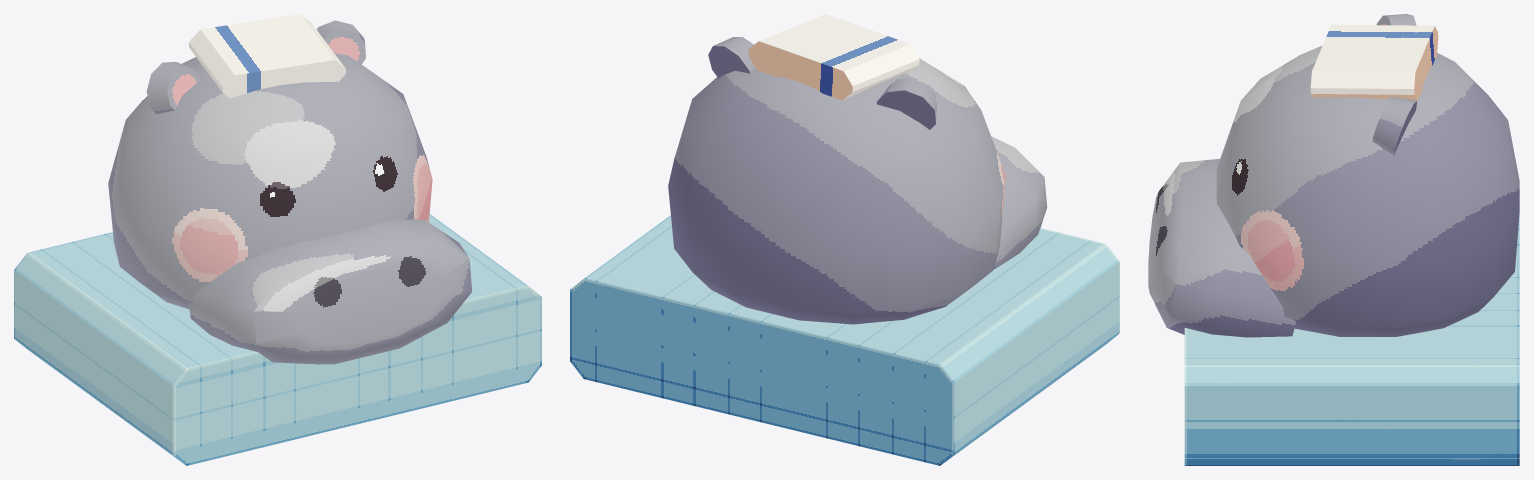
The model's file is hippo.glb.
The picture shows the model from 3 angles, left to right: view 1: azimuth 30°, elevation 25°; view 2: azimuth 150°, elevation 25°; view 3: azimuth 270°, elevation 25°; orthographic projection. The views are drawn at different scales.
Parts seen in each view (by area): view 1: tub, head, snout, towel, earL, earR; view 2: tub, head, towel, snout, earL, earR; view 3: head, tub, snout, towel, earR, earL.
Part boxes in pixels (x1,y1,x2,y2): tub: [14, 214, 541, 465]; head: [108, 53, 432, 309]; snout: [188, 219, 472, 364]; towel: [189, 14, 345, 98]; earL: [146, 61, 200, 114]; earR: [317, 20, 365, 64]; tub: [570, 215, 1119, 465]; head: [668, 58, 1005, 324]; towel: [748, 14, 919, 100]; snout: [991, 136, 1047, 268]; earL: [876, 78, 936, 129]; earR: [708, 37, 755, 78]; head: [1216, 45, 1519, 336]; tub: [1184, 213, 1519, 465]; snout: [1148, 158, 1296, 337]; towel: [1310, 24, 1438, 100]; earR: [1372, 97, 1416, 154]; earL: [1376, 14, 1416, 25].
Size of the model in its own units: 28 by 23.03 by 23.28.
Materials: 1 (1 with a texture image).
